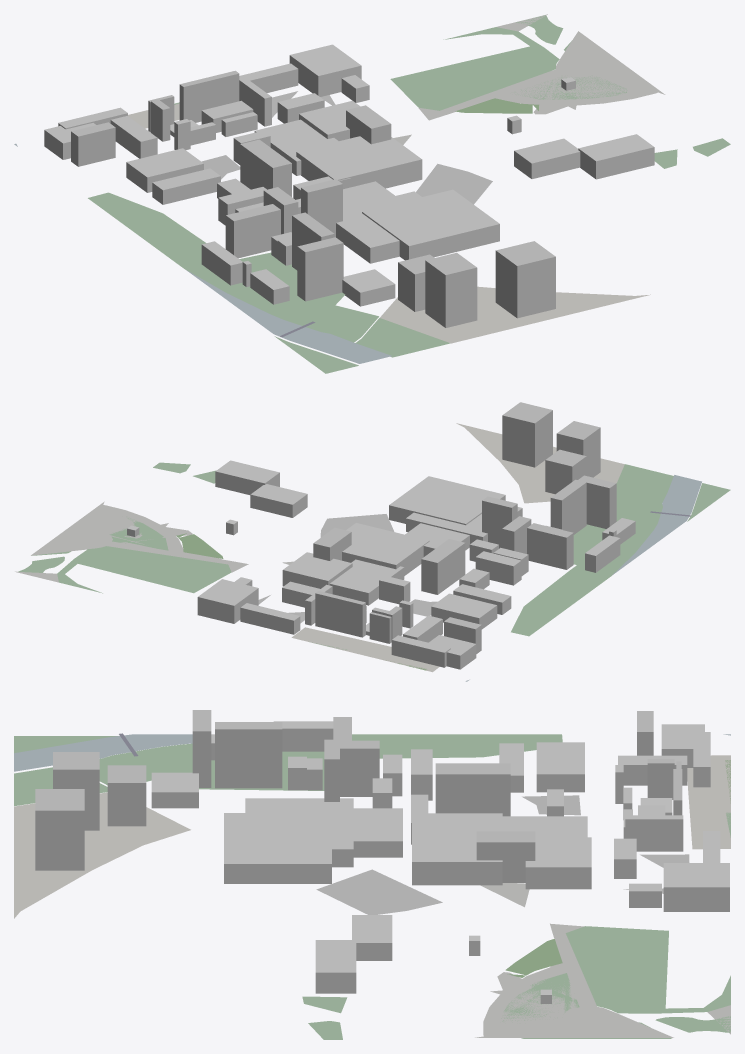
File: 135_105_mid.glb
3 renders of one model, top to bottom at view 1: azimuth 30°, elevation 25°; view 2: azimuth 150°, elevation 25°; view 3: azimuth 270°, elevation 25°, orthographic. The views are drawn at different scales.
Bounding box in the file's own units: 500 × 48.51 × 500.
